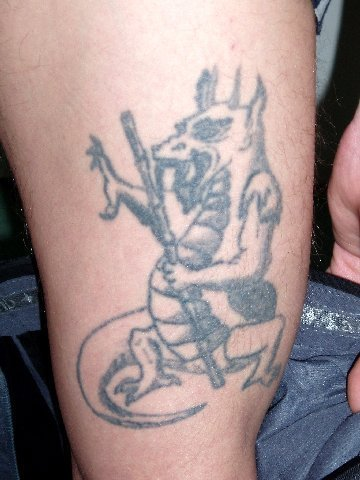tatu6_drakon: (76, 61, 288, 450)
